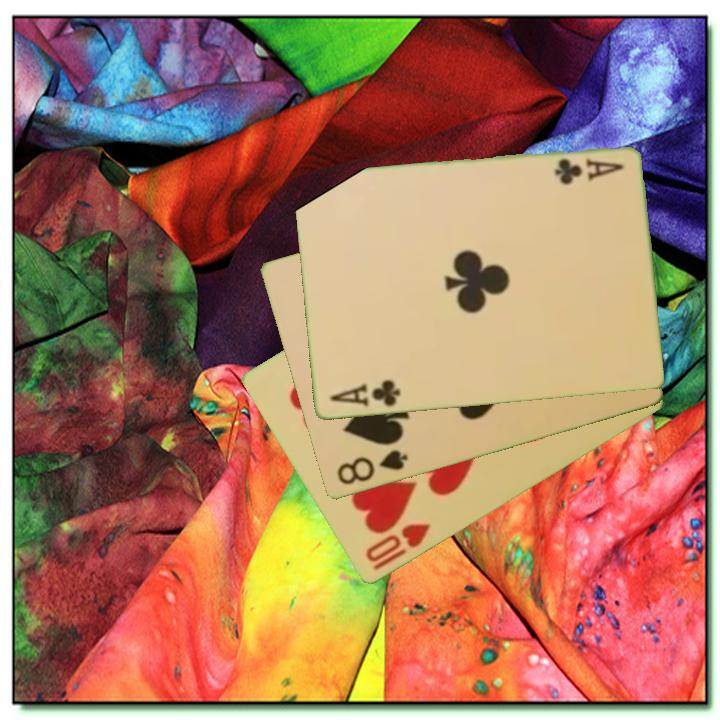10h: (361, 520, 434, 566)
8s: (333, 446, 411, 489)
Ac: (326, 376, 403, 410), (550, 155, 626, 188)
